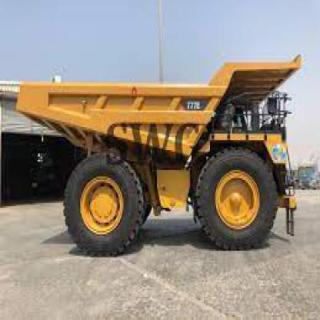Normal_vehicle: (18, 48, 304, 260)
